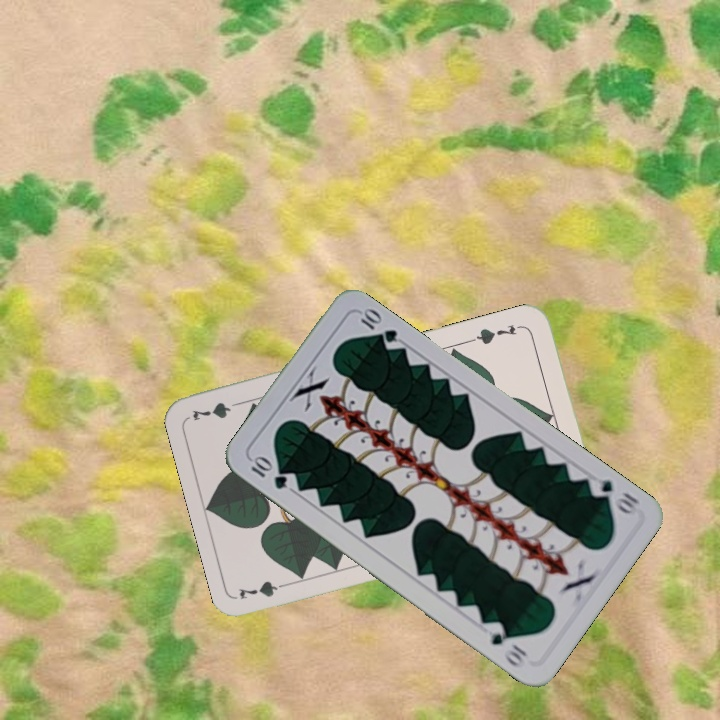G10: (585, 472, 642, 518), (247, 452, 290, 492)
G7: (468, 320, 526, 347), (235, 577, 295, 602)
